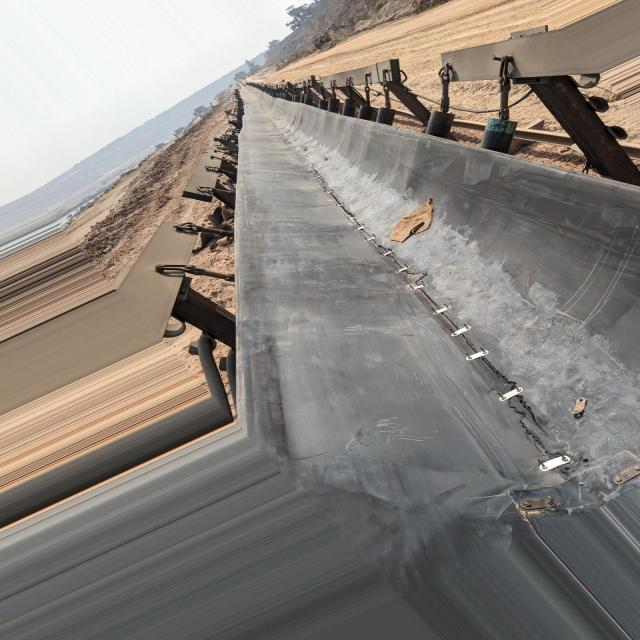Other Objects: (389, 200, 432, 242)
Roller: (285, 92, 396, 127), (480, 118, 519, 154), (424, 111, 457, 140)
patch work: (309, 167, 593, 478), (513, 447, 640, 518)
